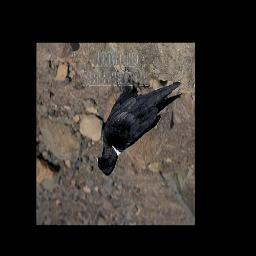Crow: (94, 63, 183, 177)
